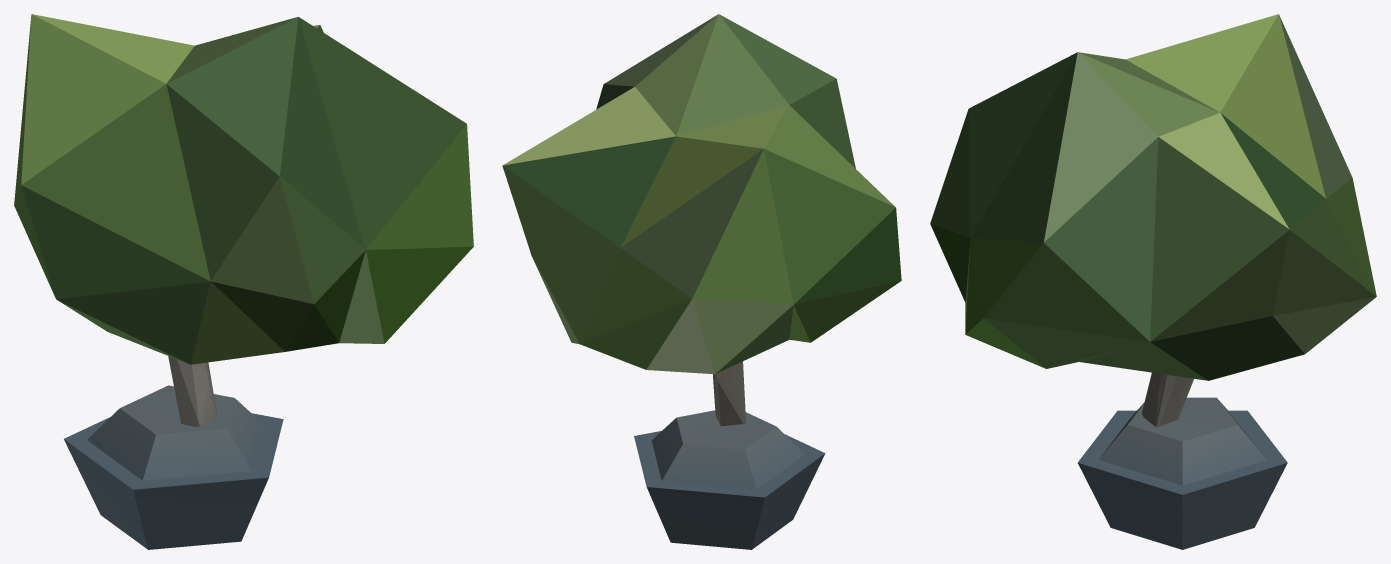
File: Bush-Potted_C.fbx
3 views of the same model, side by side, from view 1: azimuth 30°, elevation 25°; view 2: azimuth 150°, elevation 25°; view 3: azimuth 270°, elevation 25° (orthographic). The views are drawn at different scales.
Parts seen in each view (by area): view 1: Bush-Potted_C; view 2: Bush-Potted_C; view 3: Bush-Potted_C.
Part boxes in pixels (x1,y1,x2,y2): Bush-Potted_C: (14, 14, 473, 549); Bush-Potted_C: (502, 14, 901, 549); Bush-Potted_C: (930, 14, 1376, 549).
Size of the model in its own units: 133 by 171 by 140.
